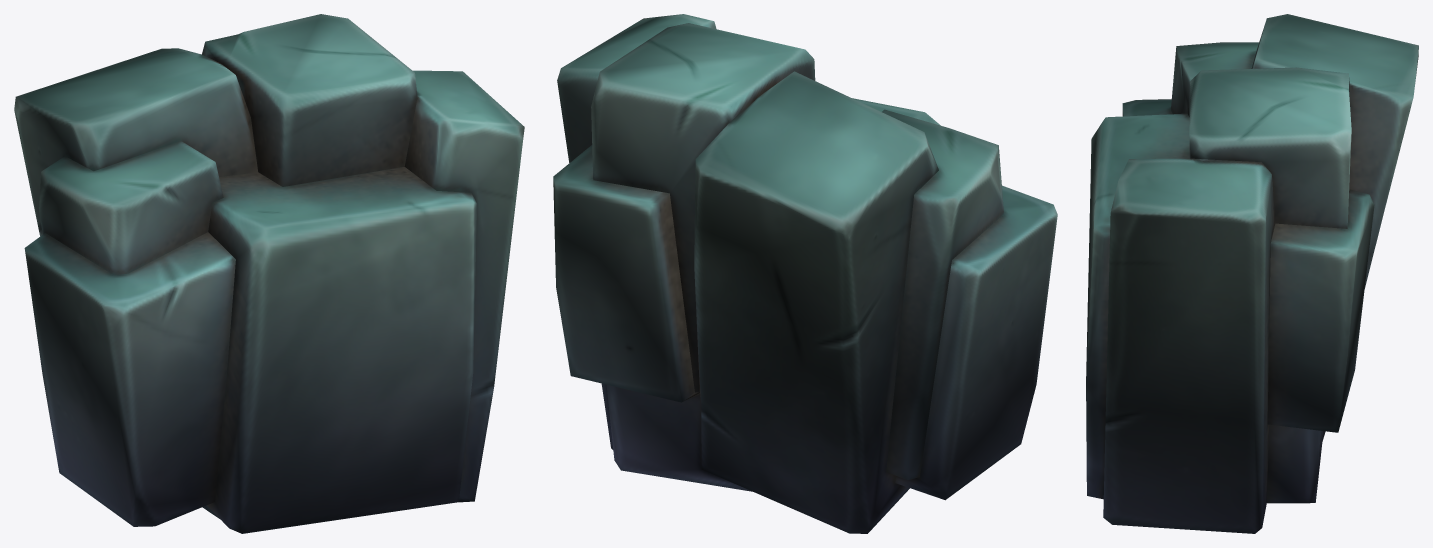
The model's file is SM_Gem_Titanium_001.fbx.
3 renders of one model, left to right at view 1: azimuth 30°, elevation 25°; view 2: azimuth 150°, elevation 25°; view 3: azimuth 270°, elevation 25°, orthographic. The views are drawn at different scales.
Visible parts, largest first — view 1: SM_Gem_Titanium_001; view 2: SM_Gem_Titanium_001; view 3: SM_Gem_Titanium_001.
Boxes of the visible parts, x1,y1,x2,y2 form: SM_Gem_Titanium_001: (14,14,524,533); SM_Gem_Titanium_001: (553,14,1057,533); SM_Gem_Titanium_001: (1086,14,1418,533).
Bounding box in the file's own units: 48.63 × 45.03 × 34.52.
